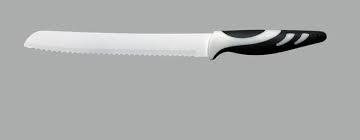Knife: (23, 28, 327, 60)
